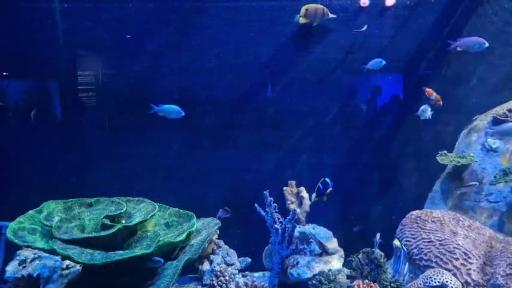Fish: (295, 4, 336, 26), (449, 37, 489, 51), (150, 105, 184, 118), (422, 87, 442, 106), (416, 104, 433, 119), (363, 59, 386, 70)
